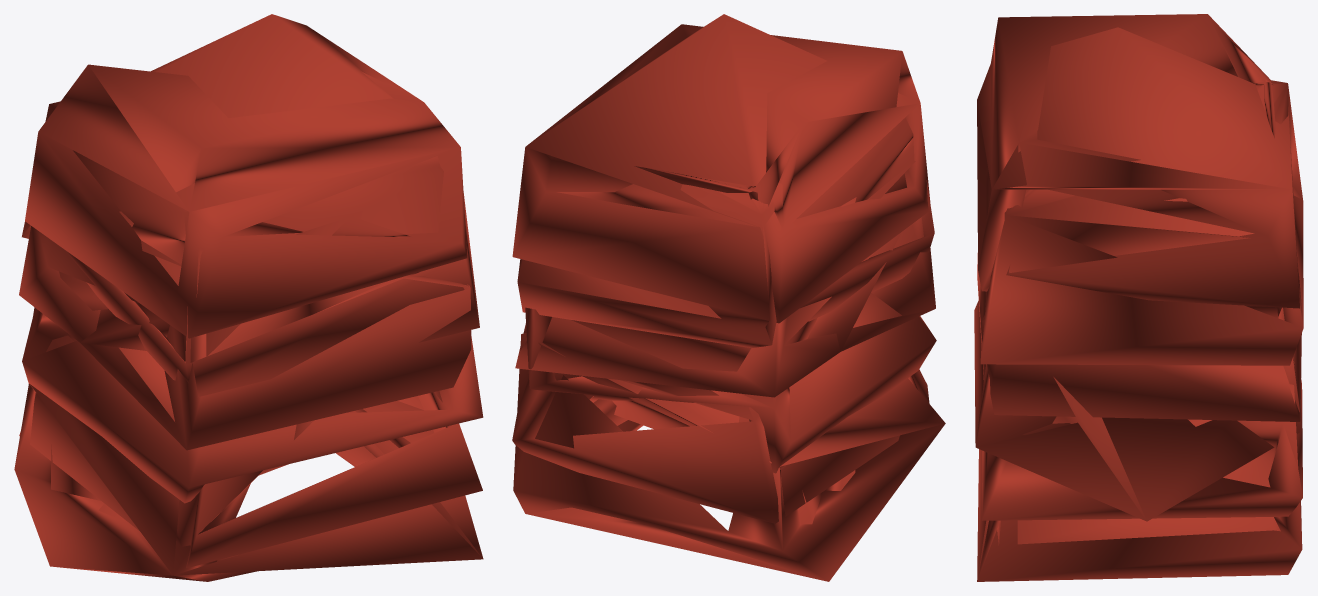
Rendered from bac_ghe_1.glb.
The picture shows the model from 3 angles, left to right: view 1: azimuth 30°, elevation 25°; view 2: azimuth 150°, elevation 25°; view 3: azimuth 270°, elevation 25°; orthographic projection. The views are drawn at different scales.
Parts seen in each view (by area): view 1: bac_ghe_1; view 2: bac_ghe_1; view 3: bac_ghe_1.
Part boxes in pixels (bbox=[...]): bac_ghe_1: bbox=[14, 14, 483, 581]; bac_ghe_1: bbox=[512, 14, 945, 581]; bac_ghe_1: bbox=[974, 14, 1303, 581].
Size of the model in its own units: 0.3518 by 0.5767 by 0.3333.
